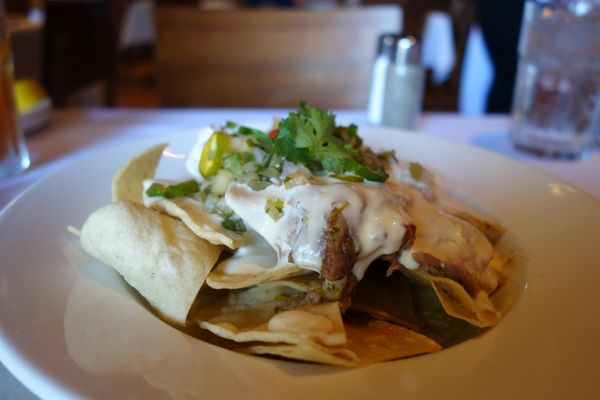pizza: (509, 0, 600, 161), (0, 2, 34, 186)
